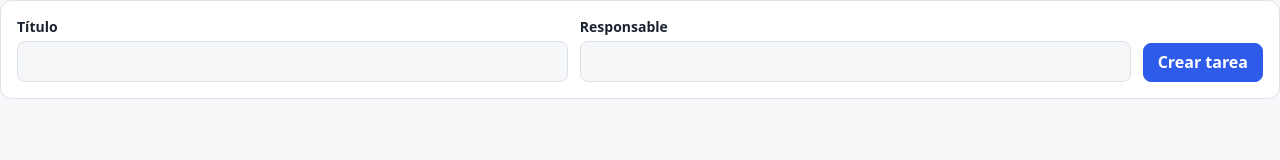
it: TaskForm › si la API devuelve 400 con detalles, cada mensaje sale bajo SU campo y se conserva lo escrito
In the field labelled "Título": (292, 62) [17,41,568,82], type "Tarea"
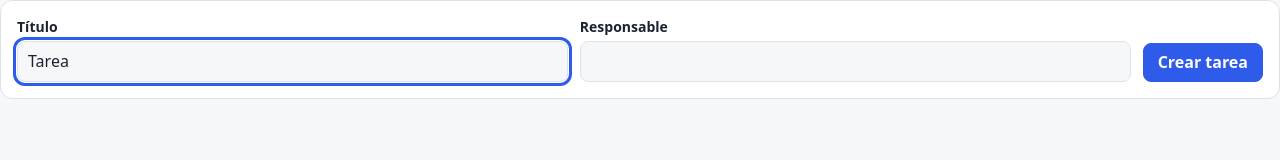
In the field labelled "Responsable": (855, 62) [580,41,1131,82], type "Luis"
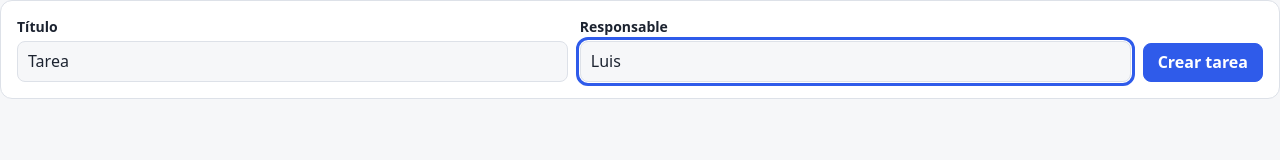
Click the button "Crear tarea": (1203, 63) [1143,43,1263,82]
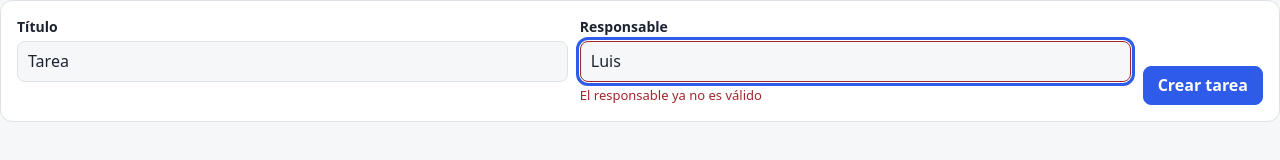
Result: the text "El responsable ya no es válido" is shown at [580,86,762,104]
